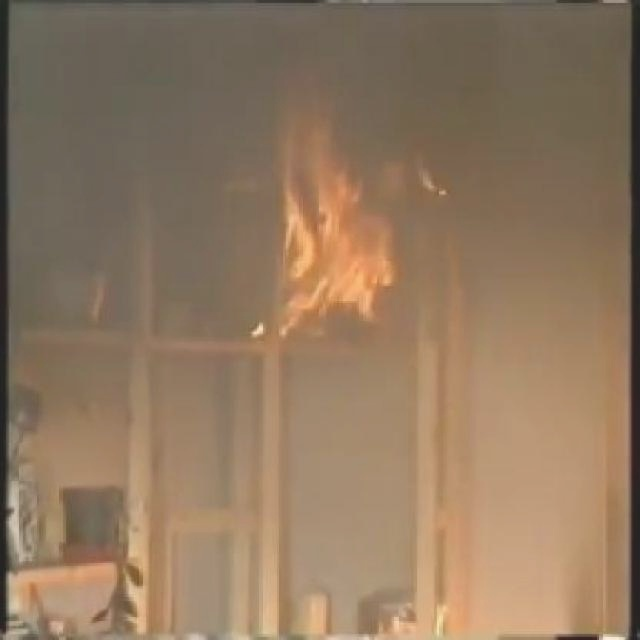fire: (233, 47, 467, 350)
